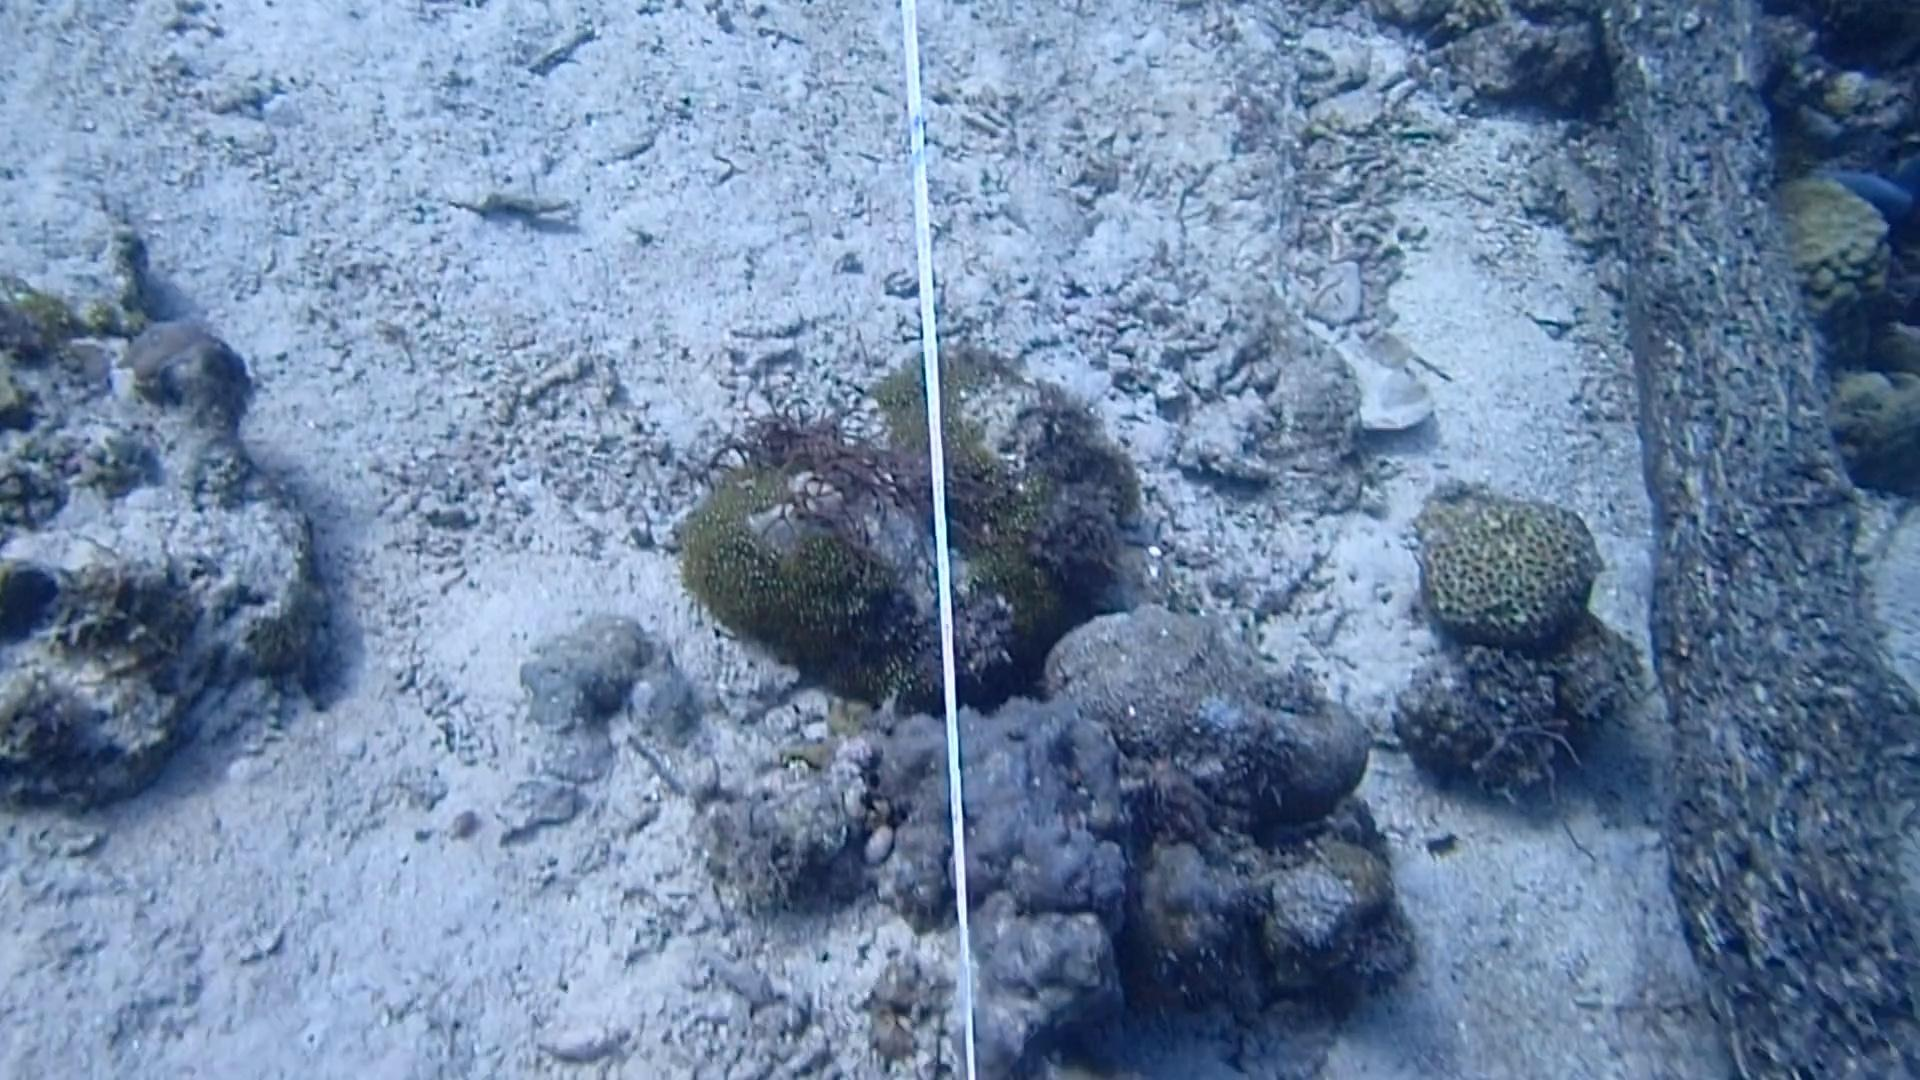UI: (1415, 827, 1461, 866)
